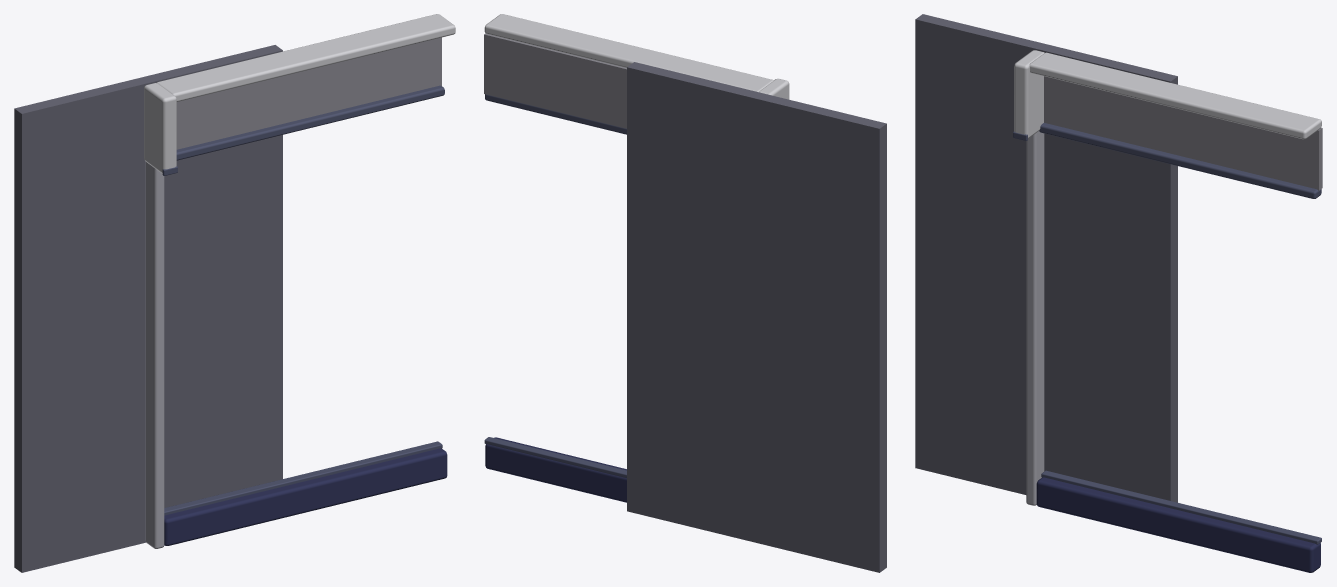
Rendered from int.wallbay.far.05.w1.glb.
3 views of the same model, side by side, from view 1: azimuth 30°, elevation 25°; view 2: azimuth 150°, elevation 25°; view 3: azimuth 330°, elevation 25° (orthographic). The views are drawn at different scales.
Parts seen in each view (by area): view 1: int.wallbay.far.05.w1; view 2: int.wallbay.far.05.w1; view 3: int.wallbay.far.05.w1.
Part boxes in pixels (x1,y1,x2,y2): int.wallbay.far.05.w1: (14, 14, 455, 572); int.wallbay.far.05.w1: (484, 14, 886, 572); int.wallbay.far.05.w1: (915, 14, 1322, 572).
Size of the model in its own units: 1.6 by 1.68 by 0.192.
